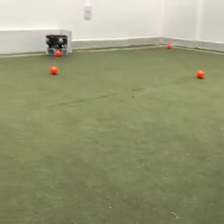ball: (196, 68, 205, 79), (50, 65, 58, 74), (165, 41, 173, 49), (55, 48, 62, 56)
goal: (1, 28, 74, 55)
robot: (43, 33, 69, 56)
